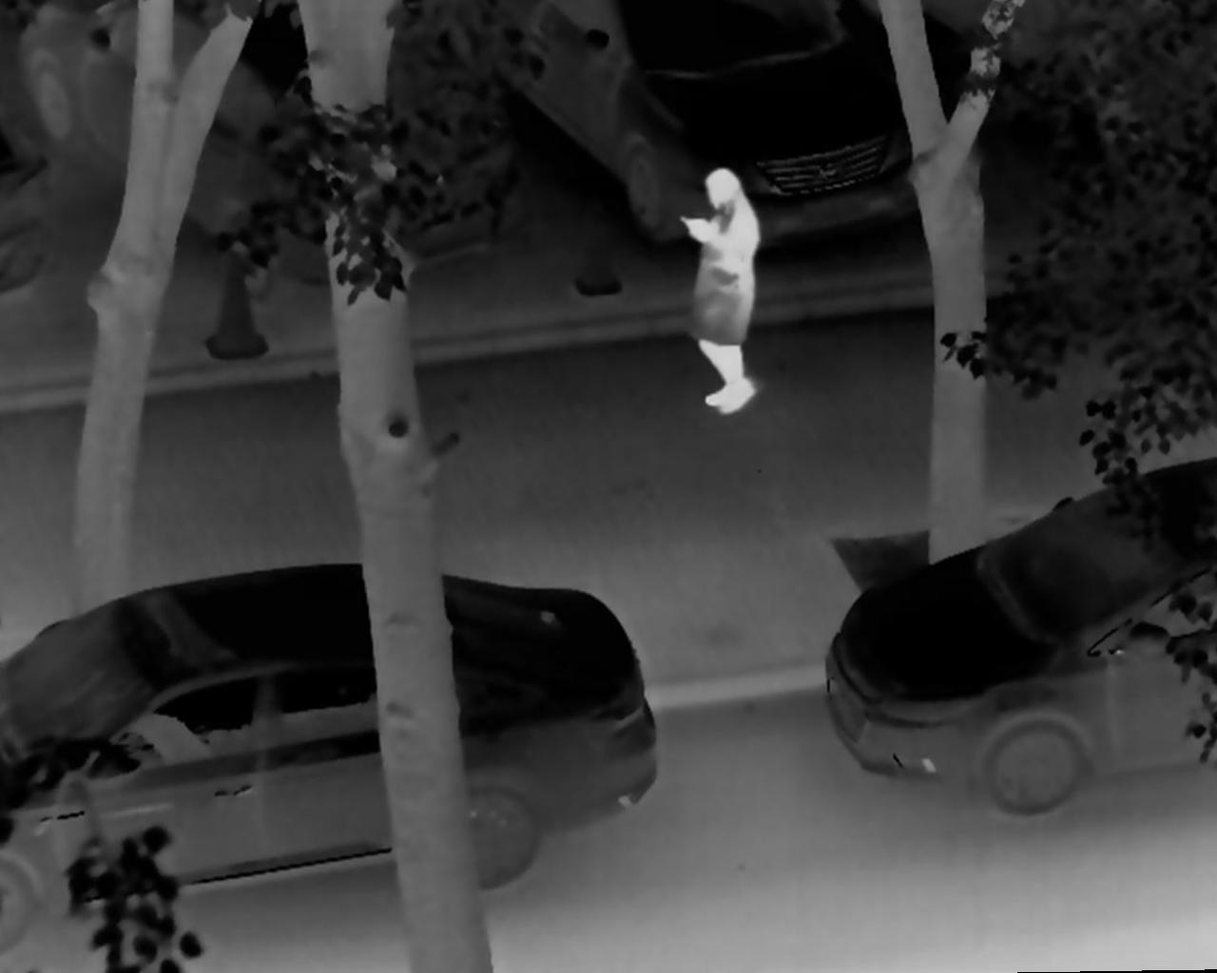person: (671, 169, 763, 419)
